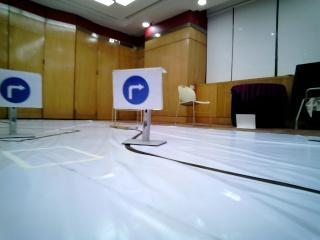right: (113, 70, 157, 106), (0, 68, 39, 103)
